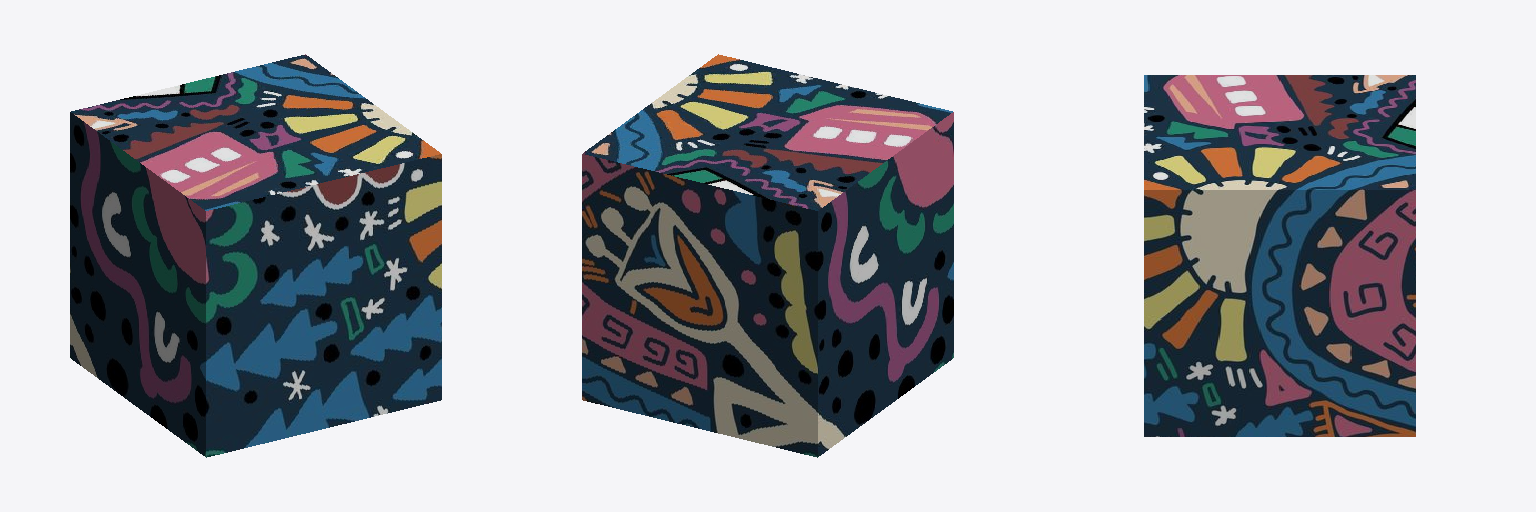
3 renders of one model, left to right at view 1: azimuth 30°, elevation 25°; view 2: azimuth 150°, elevation 25°; view 3: azimuth 270°, elevation 25°, orthographic.
Parts seen in each view (by area): view 1: Cube; view 2: Cube; view 3: Cube.
Part boxes in pixels (x1,y1,x2,y2): Cube: (70,54,441,457); Cube: (582,54,953,457); Cube: (1144,75,1415,436).
Size of the model in its own units: 2 by 2 by 2.
Materials: 1 (1 with a texture image).